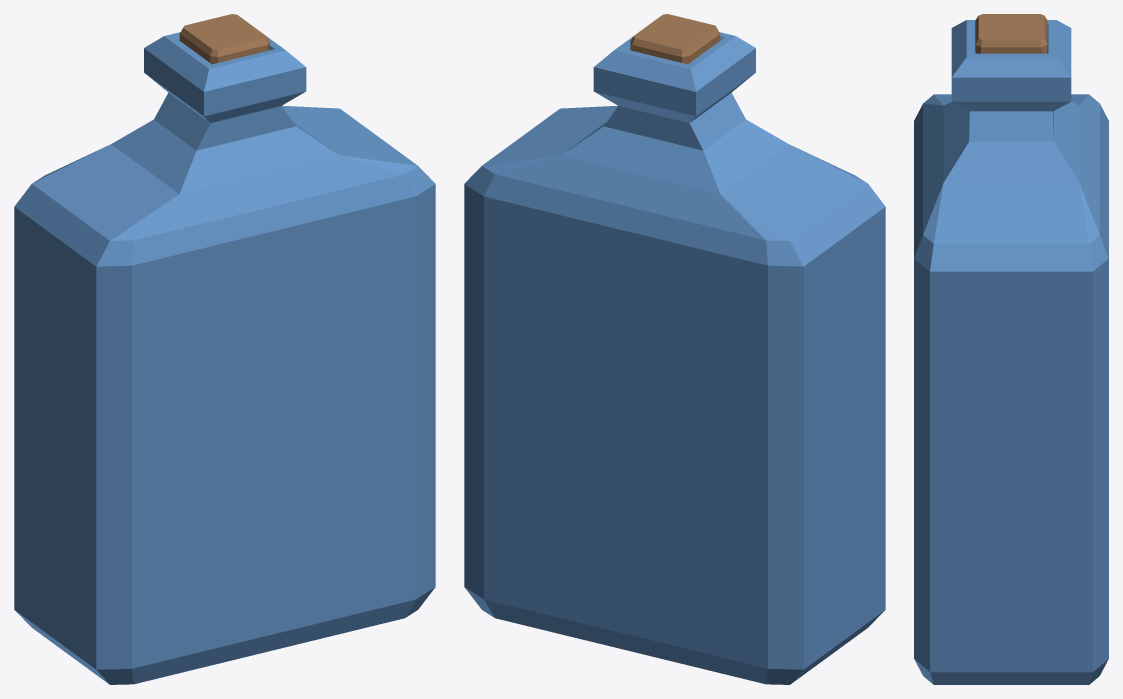
File: Blue_Potion_5.fbx
3 views of the same model, side by side, from view 1: azimuth 30°, elevation 25°; view 2: azimuth 150°, elevation 25°; view 3: azimuth 270°, elevation 25° (orthographic).
Visible parts, largest first — view 1: Blue_Potion_5; view 2: Blue_Potion_5; view 3: Blue_Potion_5.
Boxes of the visible parts, x1,y1,x2,y2 form: Blue_Potion_5: (14, 14, 435, 684); Blue_Potion_5: (464, 14, 885, 684); Blue_Potion_5: (914, 14, 1108, 684).
Size of the model in its own units: 25.6 by 42.3 by 12.8.
